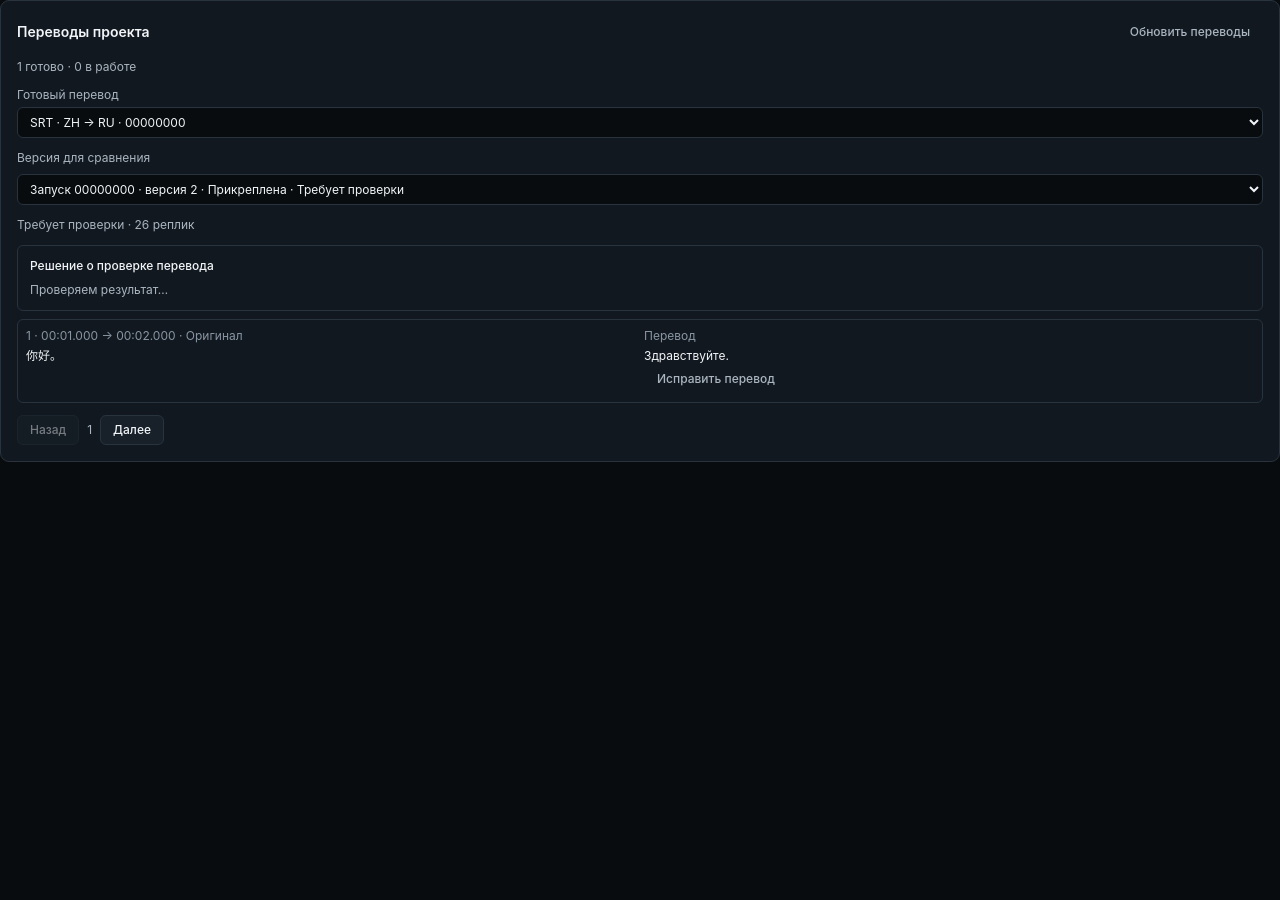
TranslationReview › shows a ready result beside its original and requests only the next page
The width and height of the screenshot is (1280, 900).
Expected: the text "Здравствуйте." is shown, 644,348 -> 729,363
Expected: the text "你好。" is shown, 26,348 -> 62,363
Step 1. Click the button "Далее" → (132, 430), box 100,415 -> 164,445
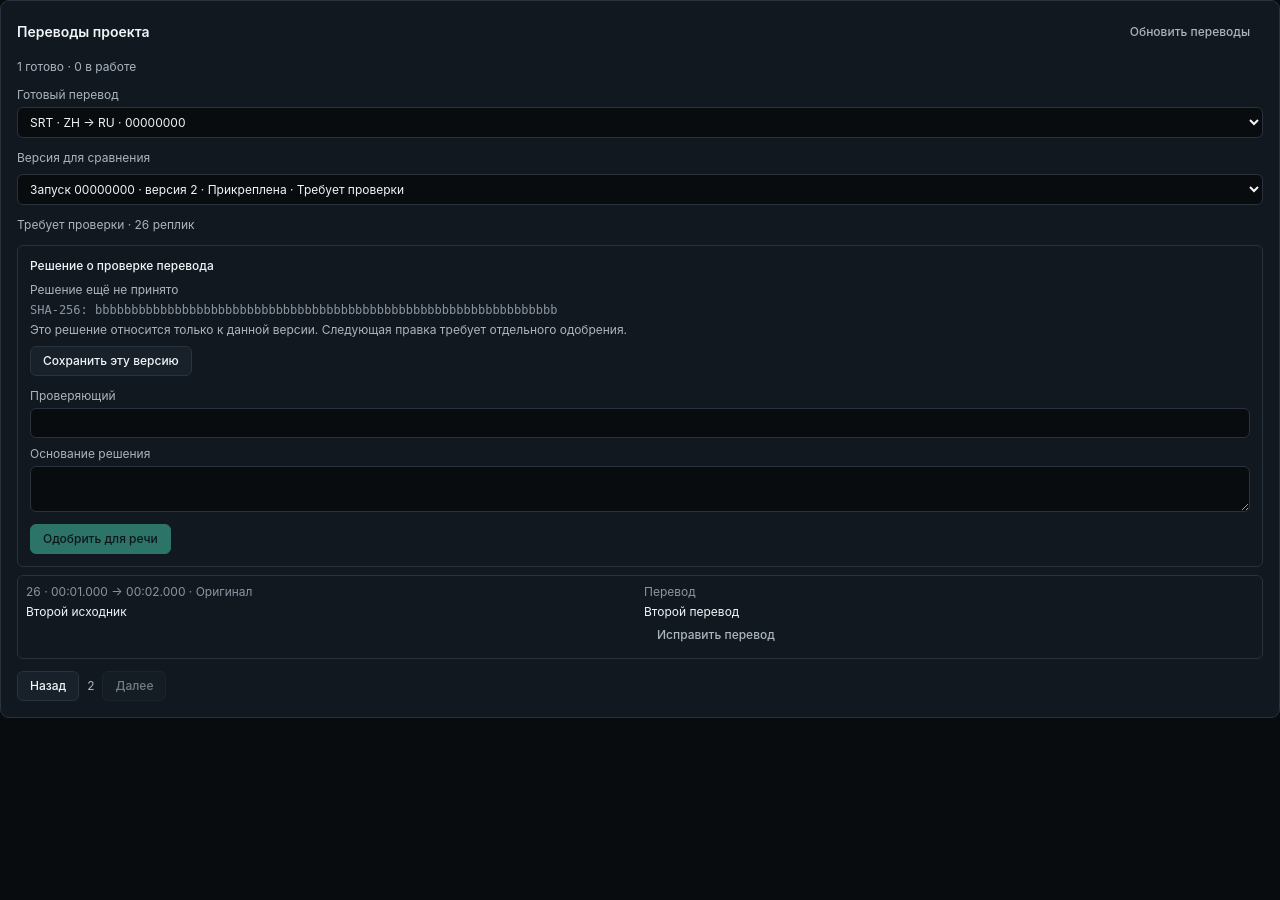
Expected: the text "Второй перевод" is shown, 644,604 -> 739,619
Expected: the button "Далее" is disabled, 102,671 -> 166,701
